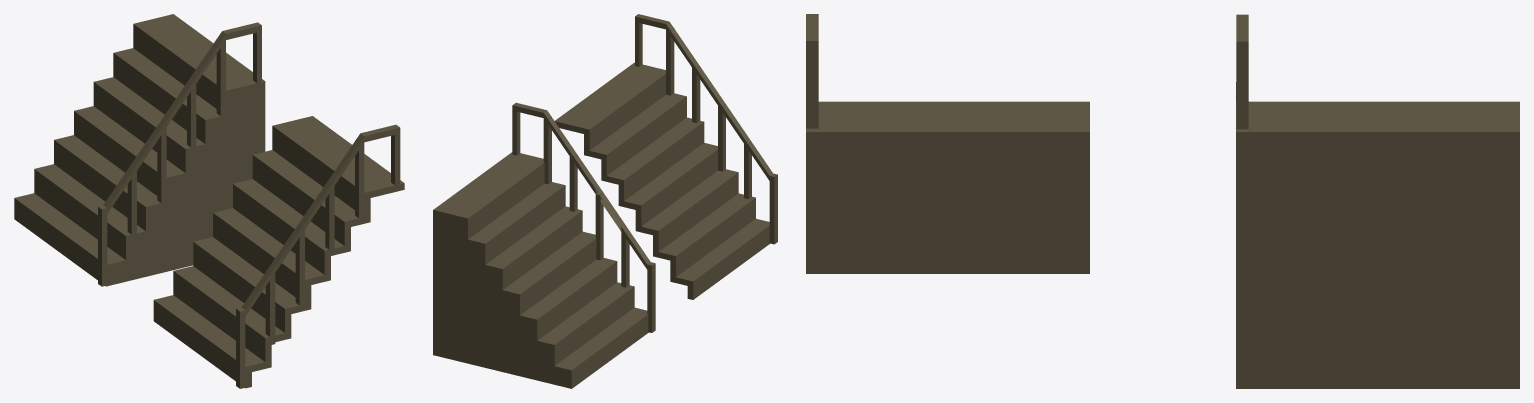
File: tanggascanelv2_rama.fbx
3 views of the same model, side by side, from view 1: azimuth 30°, elevation 25°; view 2: azimuth 150°, elevation 25°; view 3: azimuth 270°, elevation 25° (orthographic). The views are drawn at different scales.
Parts seen in each view (by area): view 1: Cube.001, Cube; view 2: Cube, Cube.001; view 3: Cube, Cube.001.
Part boxes in pixels (x1,y1,x2,y2): Cube.001: (98, 22, 404, 388); Cube: (14, 14, 265, 286); Cube: (433, 152, 648, 388); Cube.001: (512, 14, 777, 332); Cube: (1236, 101, 1519, 388); Cube.001: (806, 14, 1248, 273).
Bounding box in the file's own units: 207 × 268 × 503.
